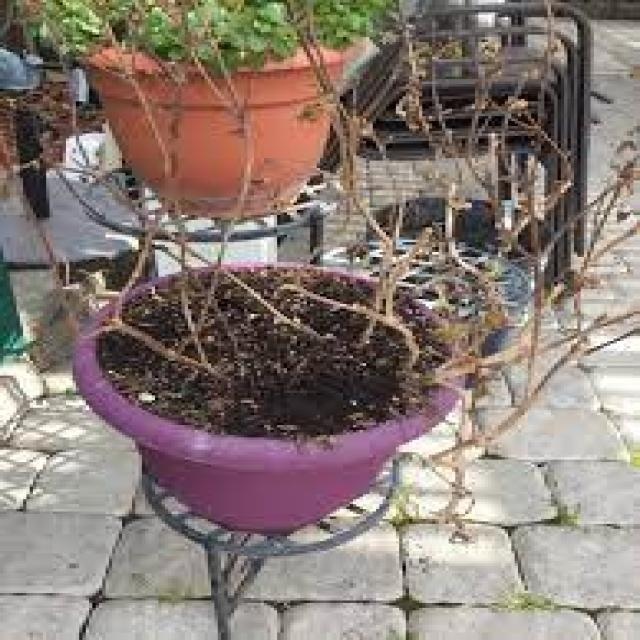unhealthy: (12, 56, 636, 434)
